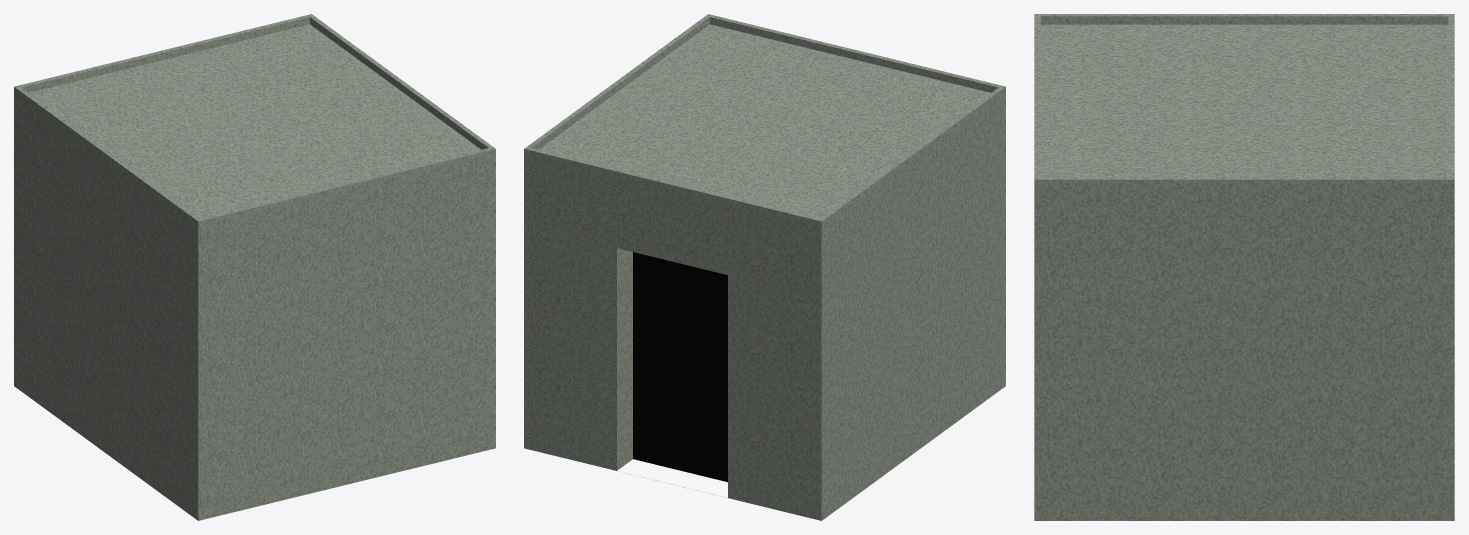
The model's file is BLOCKYGON_ROOF ENTER.fbx.
3 views of the same model, side by side, from view 1: azimuth 30°, elevation 25°; view 2: azimuth 150°, elevation 25°; view 3: azimuth 270°, elevation 25° (orthographic). The views are drawn at different scales.
Visible parts, largest first — view 1: BLOCKYGON_ROOF_ENTER; view 2: BLOCKYGON_ROOF_ENTER; view 3: BLOCKYGON_ROOF_ENTER.
Boxes of the visible parts, x1,y1,x2,y2 form: BLOCKYGON_ROOF_ENTER: [14, 14, 495, 520]; BLOCKYGON_ROOF_ENTER: [524, 14, 1005, 520]; BLOCKYGON_ROOF_ENTER: [1034, 14, 1454, 520].
Size of the model in its own units: 304 by 292 by 325.
